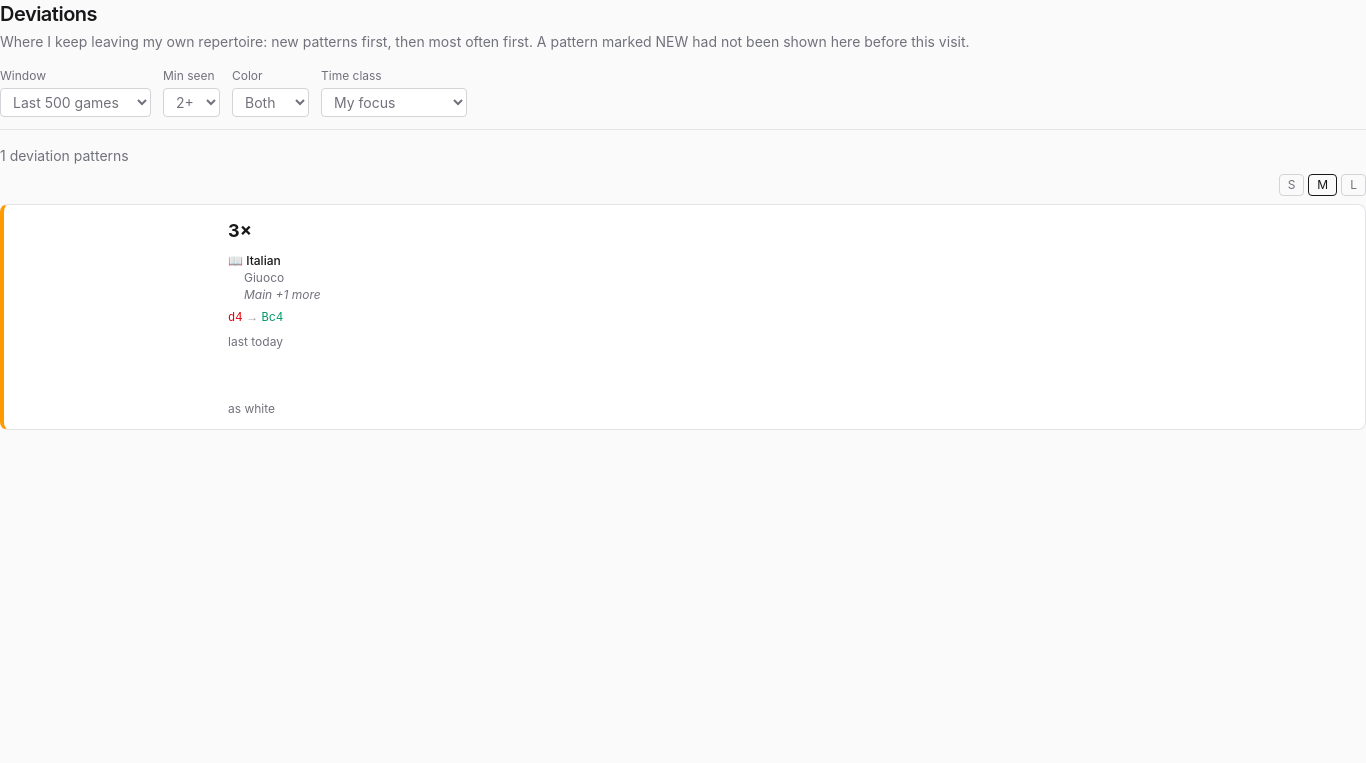
Scenario: Deviations page › opens a card: the expected move is labelled Expected, the record and the repertoire lines show, and there is no explanation panel
Click the text "3×".
click(240, 231)  # box [228,217,252,245]
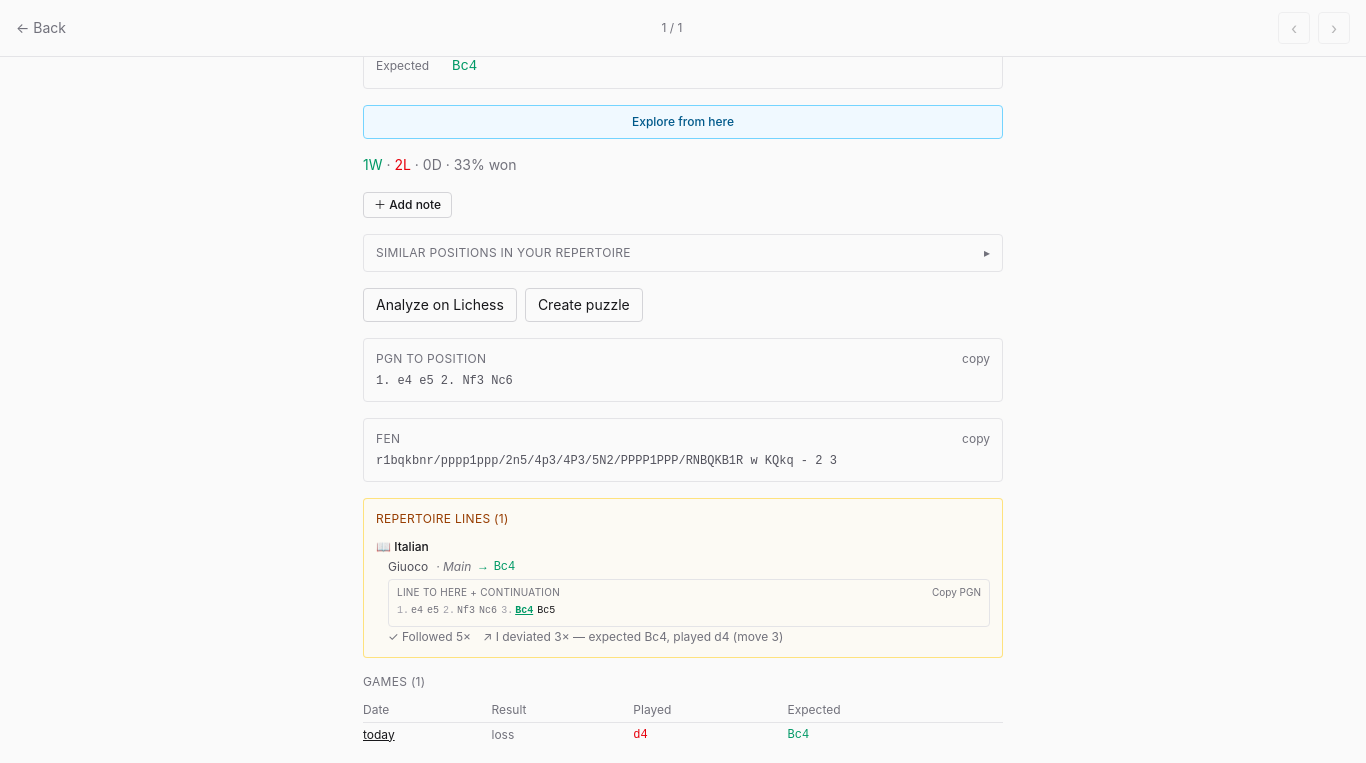
Expected: the text "Expected" is shown, [376,58,429,73]
Expected: the text "1W" is shown, [363,156,382,173]
Expected: the element with test id "rep-lines" shows "Repertoire lines (1)", [363,498,1003,658]
